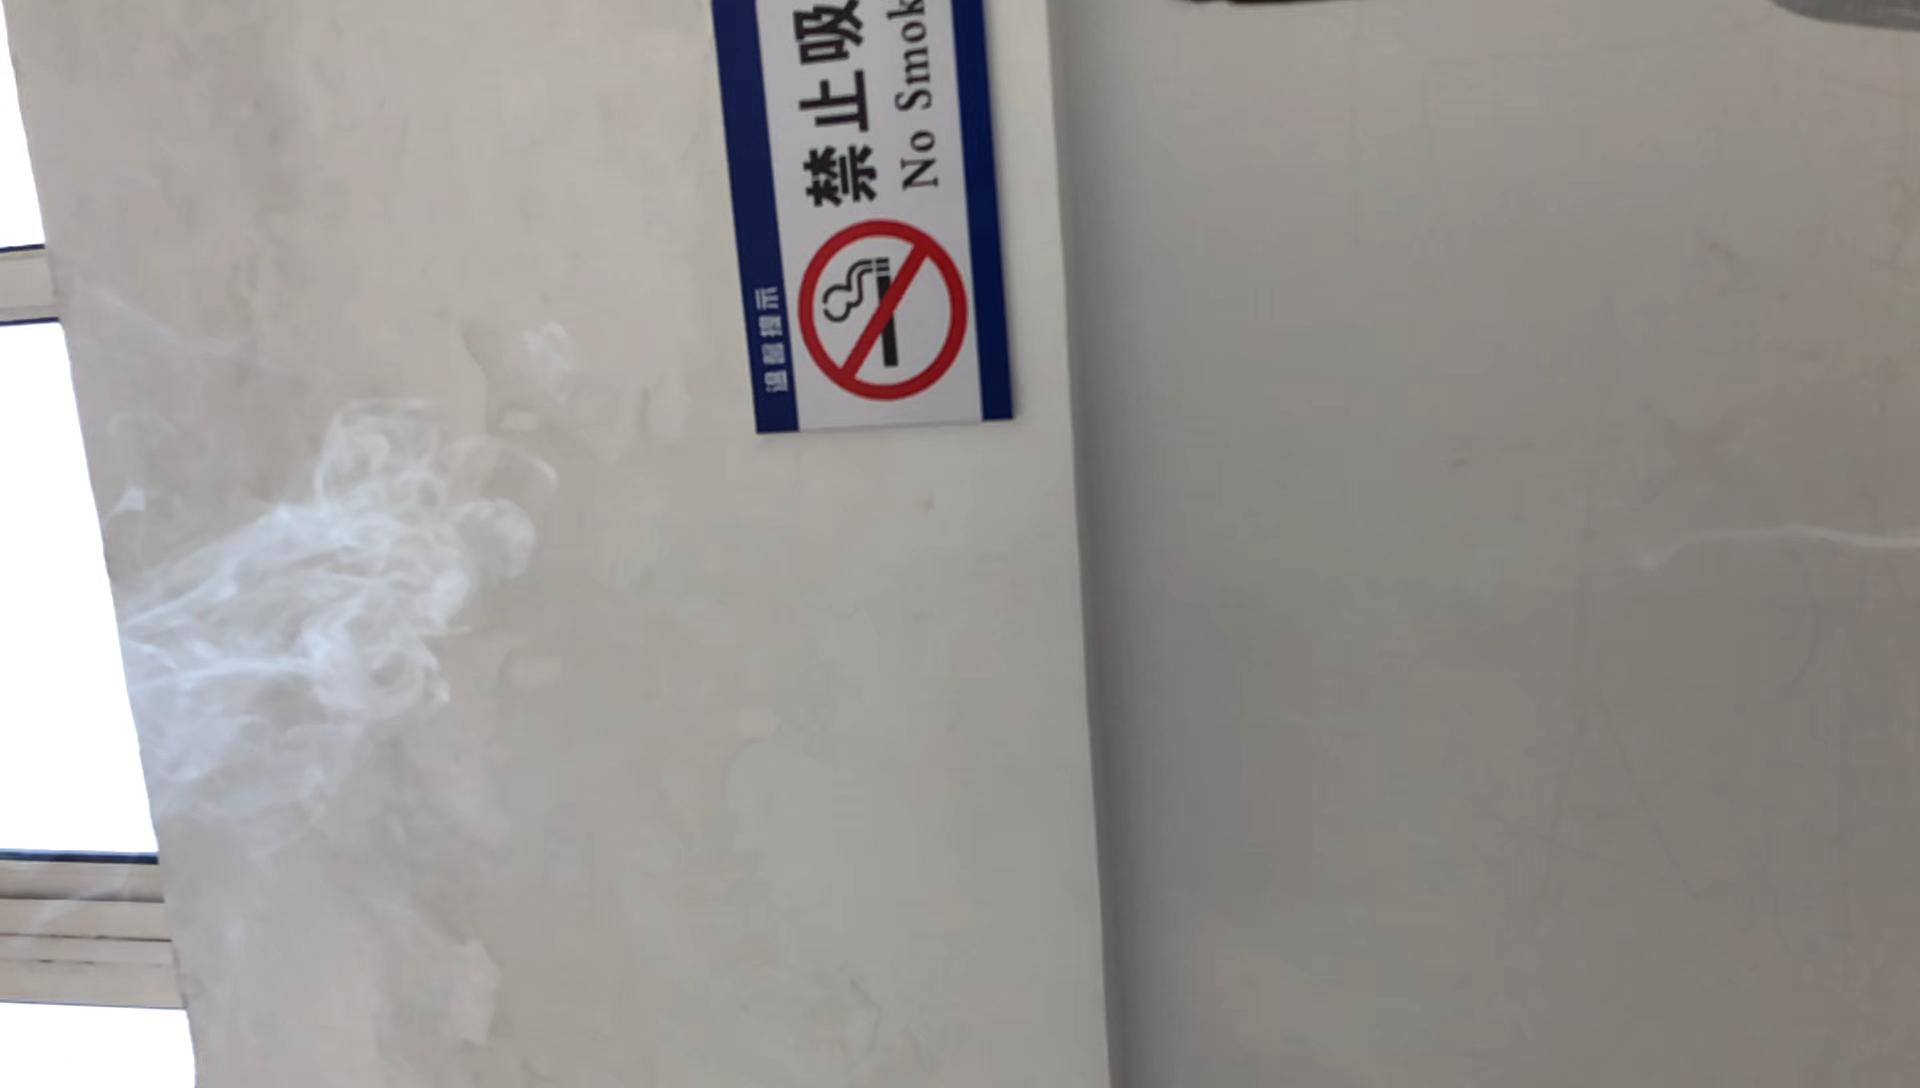yanwu: (124, 426, 531, 781)
